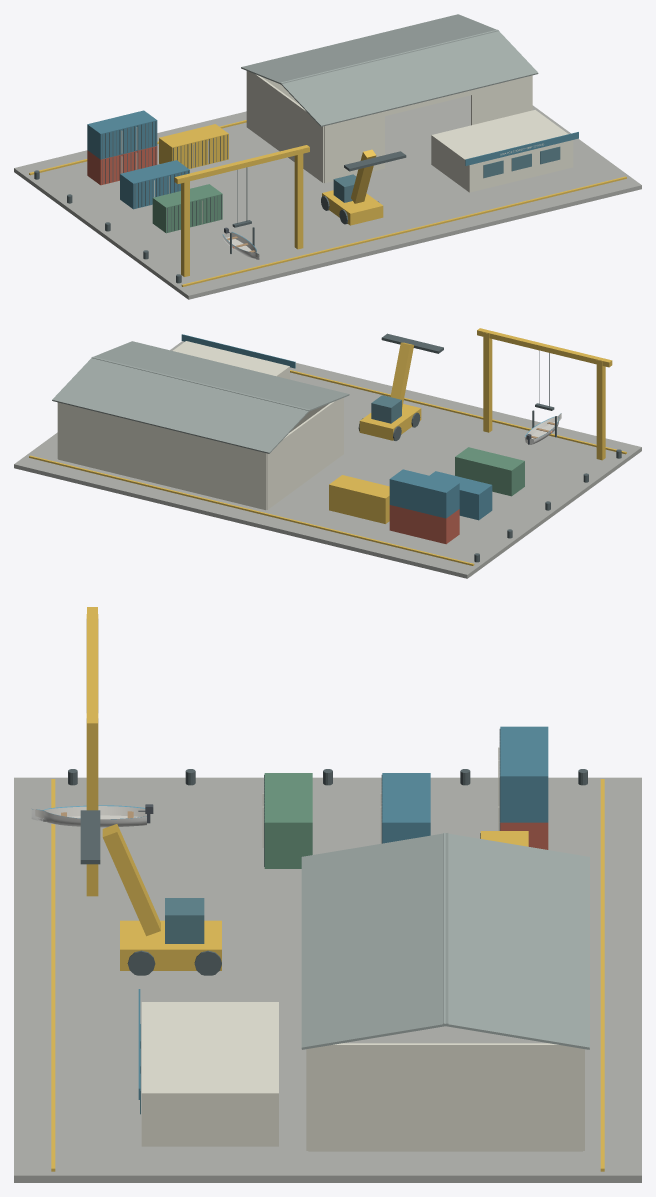
The model's file is ifira_port.glb.
3 views of the same model, one above another, from view 1: azimuth 30°, elevation 25°; view 2: azimuth 150°, elevation 25°; view 3: azimuth 270°, elevation 25° (orthographic). The views are drawn at different scales.
Parts seen in each view (by area): view 1: concrete, roof, cream, yellow, blue, steel, green, red, glass; view 2: concrete, cream, roof, yellow, blue, green, red, steel, glass; view 3: concrete, roof, cream, yellow, blue, green, steel, glass, Deck, Hull, red.
Part boxes in pixels (box(x1,y1,x2,y2)): concrete: box(14, 95, 641, 299); roof: box(241, 14, 538, 126); cream: box(121, 71, 573, 223); yellow: box(29, 120, 626, 286); blue: box(87, 110, 578, 209); steel: box(34, 121, 406, 283); green: box(152, 184, 222, 233); red: box(87, 146, 157, 185); glass: box(333, 146, 560, 202); concrete: box(14, 341, 641, 578); cream: box(57, 341, 343, 510); roof: box(52, 341, 349, 453); yellow: box(29, 328, 626, 565); blue: box(181, 334, 492, 520); green: box(455, 447, 524, 496); red: box(389, 505, 459, 544); steel: box(358, 333, 621, 562); glass: box(371, 395, 401, 423); concrete: box(14, 777, 641, 1182); roof: box(301, 832, 589, 1049); cream: box(141, 747, 584, 1151); yellow: box(51, 607, 604, 1171); blue: box(138, 726, 548, 1099); green: box(264, 773, 312, 868); steel: box(68, 729, 587, 975); glass: box(140, 898, 204, 1114); Deck: box(35, 806, 146, 819); Hull: box(31, 809, 146, 827); red: box(500, 822, 548, 849).
Size of the model in its own units: 48 by 10.45 by 32.
